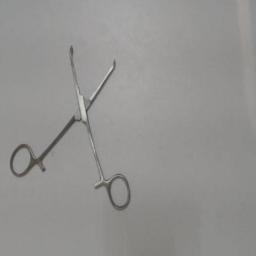Allis Tissue Forceps: (6, 40, 134, 216)
